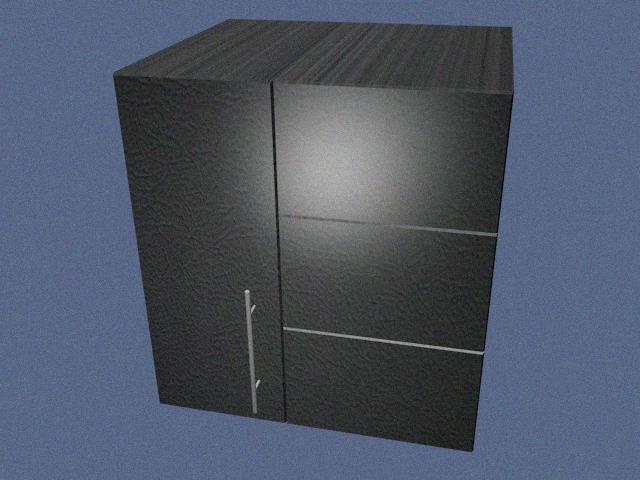cabinet_door: (136, 80, 278, 414), (274, 88, 504, 226), (280, 226, 490, 340), (284, 340, 478, 437)
handle: (238, 286, 267, 417)
